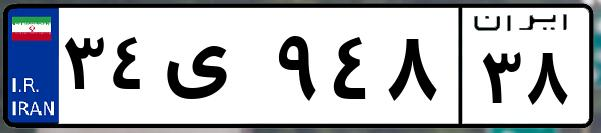3: (57, 26, 110, 100), (475, 38, 525, 113)
4: (330, 28, 385, 110), (110, 28, 158, 98)
8: (385, 28, 445, 110), (525, 38, 570, 115)
9: (270, 28, 330, 110)
ی: (158, 20, 270, 120)
